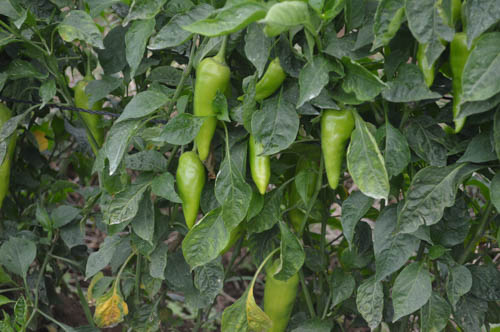ChiliPepper: (190, 59, 227, 161), (449, 35, 480, 129), (320, 108, 352, 190), (265, 264, 298, 330), (178, 153, 206, 230), (73, 80, 106, 143), (248, 61, 284, 103), (249, 132, 270, 193)
